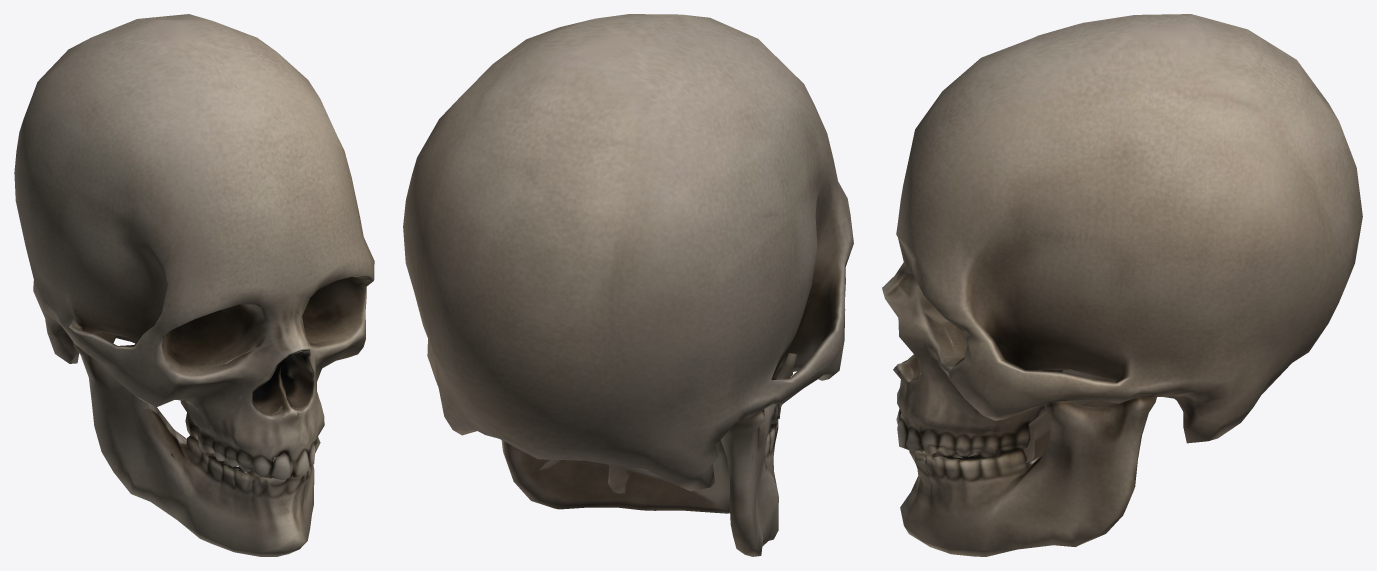
Rendered from skull.glb.
3 renders of one model, left to right at view 1: azimuth 30°, elevation 25°; view 2: azimuth 150°, elevation 25°; view 3: azimuth 270°, elevation 25°, orthographic. The views are drawn at different scales.
Parts seen in each view (by area): view 1: polySurface13, polySurface15, polySurface14; view 2: polySurface13, polySurface15; view 3: polySurface13, polySurface15.
Boxes of the visible parts, x1,y1,x2,y2 form: polySurface13: (14,14,374,478); polySurface15: (72,331,314,556); polySurface14: (272,452,293,480); polySurface13: (403,14,853,491); polySurface15: (501,353,796,556); polySurface13: (882,14,1362,459); polySurface15: (900,369,1156,556).
Bounding box in the file's own units: 0.631 × 1 × 0.8581.
1 material, 1 textured.
